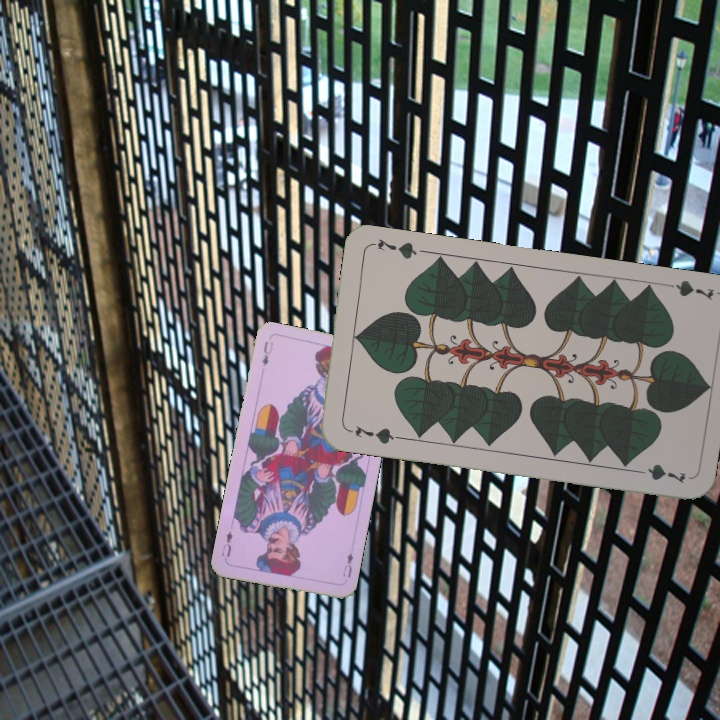EU: (258, 337, 276, 368), (339, 548, 356, 580)
G7: (657, 276, 716, 303), (351, 421, 402, 447)
